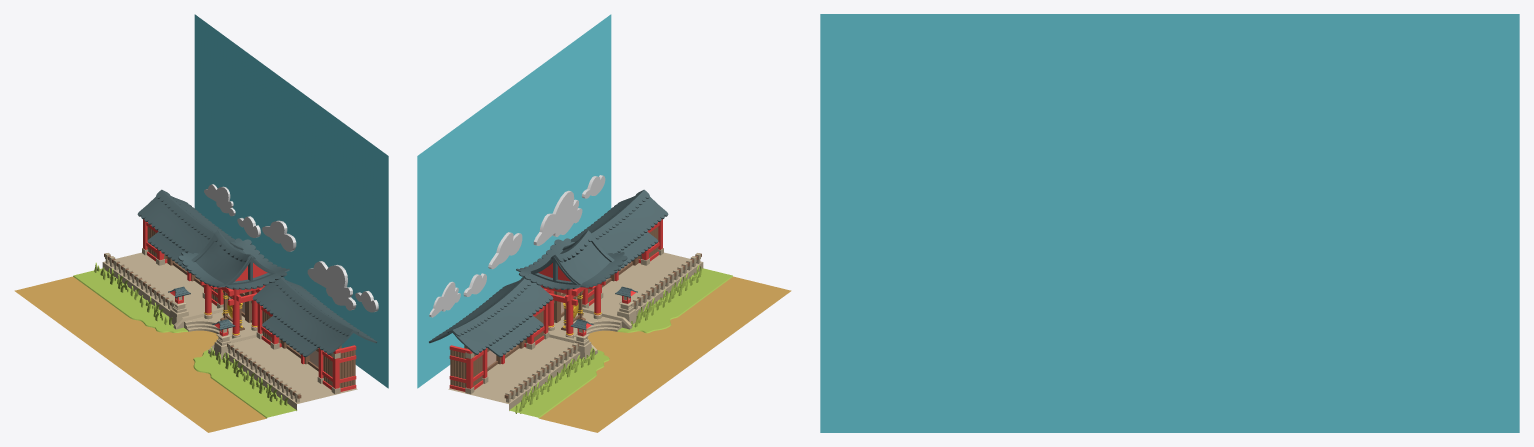
The model's file is Environment_Japanese_Temple_Blockout_TEMP.fbx.
3 views of the same model, side by side, from view 1: azimuth 30°, elevation 25°; view 2: azimuth 150°, elevation 25°; view 3: azimuth 270°, elevation 25° (orthographic). The views are drawn at different scales.
Visible parts, largest first — view 1: Environment_Japanese_Temple_Blockout_TEMP; view 2: Environment_Japanese_Temple_Blockout_TEMP; view 3: Environment_Japanese_Temple_Blockout_TEMP.
Part boxes in pixels (bbox=[...]): Environment_Japanese_Temple_Blockout_TEMP: bbox=[14, 14, 388, 432]; Environment_Japanese_Temple_Blockout_TEMP: bbox=[417, 14, 791, 432]; Environment_Japanese_Temple_Blockout_TEMP: bbox=[820, 14, 1519, 432].
Size of the model in its own units: 1178 by 1465 by 2197.
